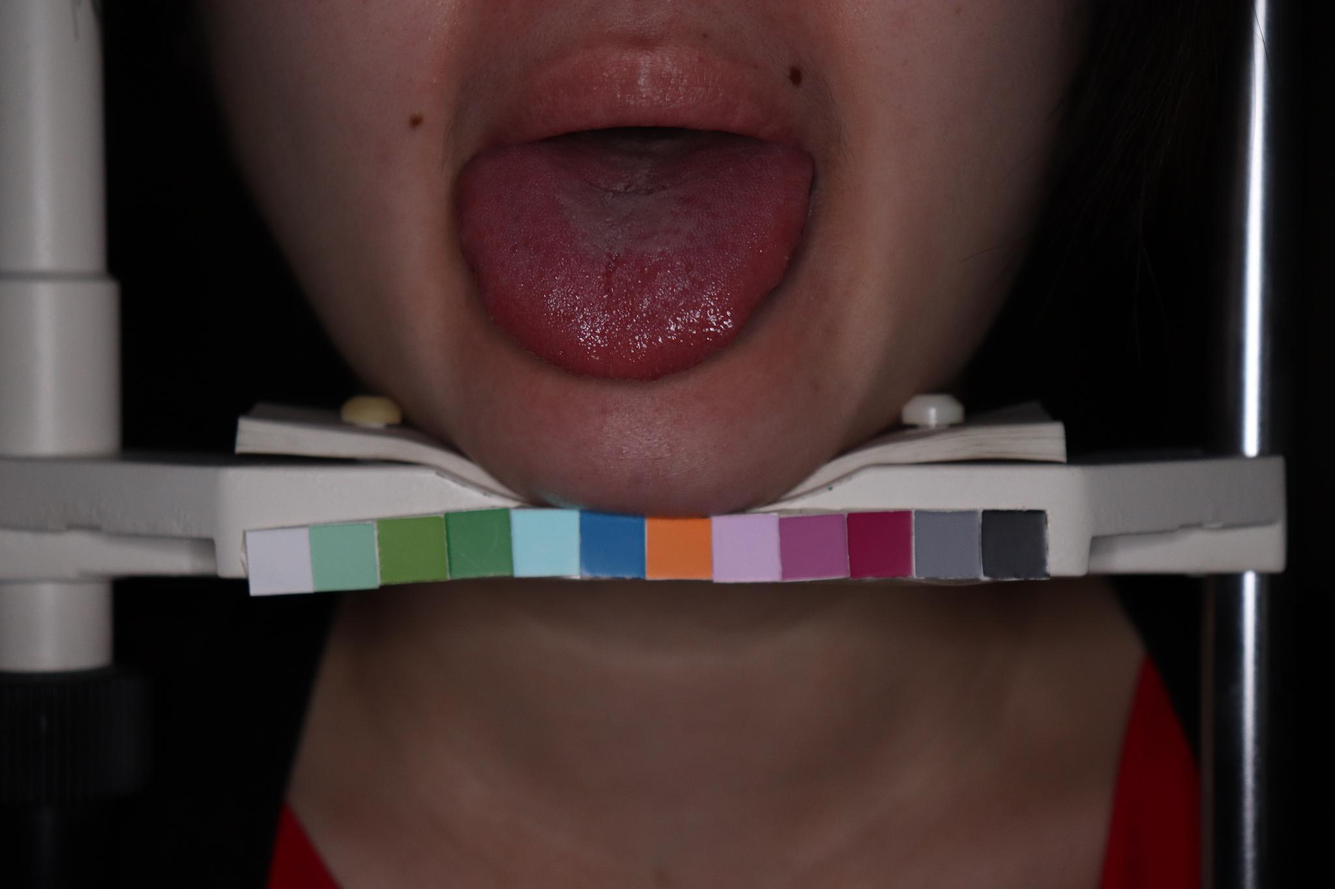baitaishe: (456, 132, 813, 379)
hongshe: (457, 134, 814, 380)
piweiao: (562, 156, 694, 206)
